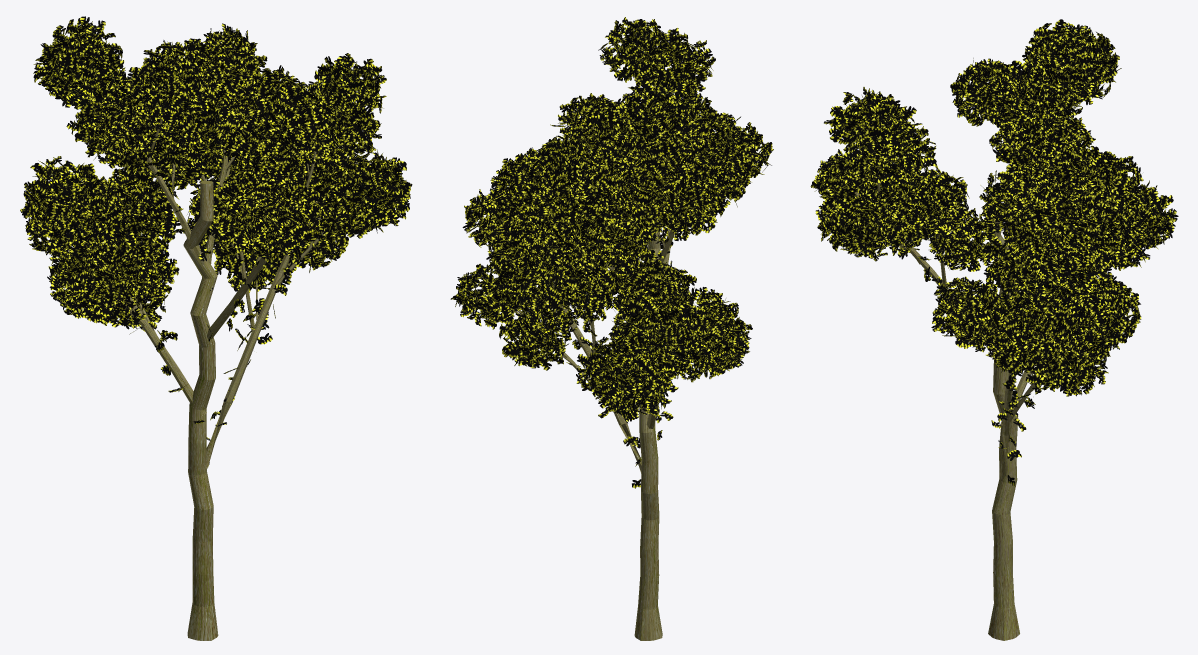
Rendered from cottonwood_river_v03.fbx.
The picture shows the model from 3 angles, left to right: view 1: azimuth 30°, elevation 25°; view 2: azimuth 150°, elevation 25°; view 3: azimuth 270°, elevation 25°; orthographic projection. The views are drawn at different scales.
Visible parts, largest first — view 1: cottonwood_river_v03; view 2: cottonwood_river_v03; view 3: cottonwood_river_v03.
Part boxes in pixels (x1=…): cottonwood_river_v03: x1=20, y1=16, x2=412, y2=640; cottonwood_river_v03: x1=450, y1=17, x2=773, y2=640; cottonwood_river_v03: x1=810, y1=19, x2=1178, y2=640.
Size of the model in its own units: 2154 by 2233 by 3752.
Materials: 2 (2 with a texture image).
